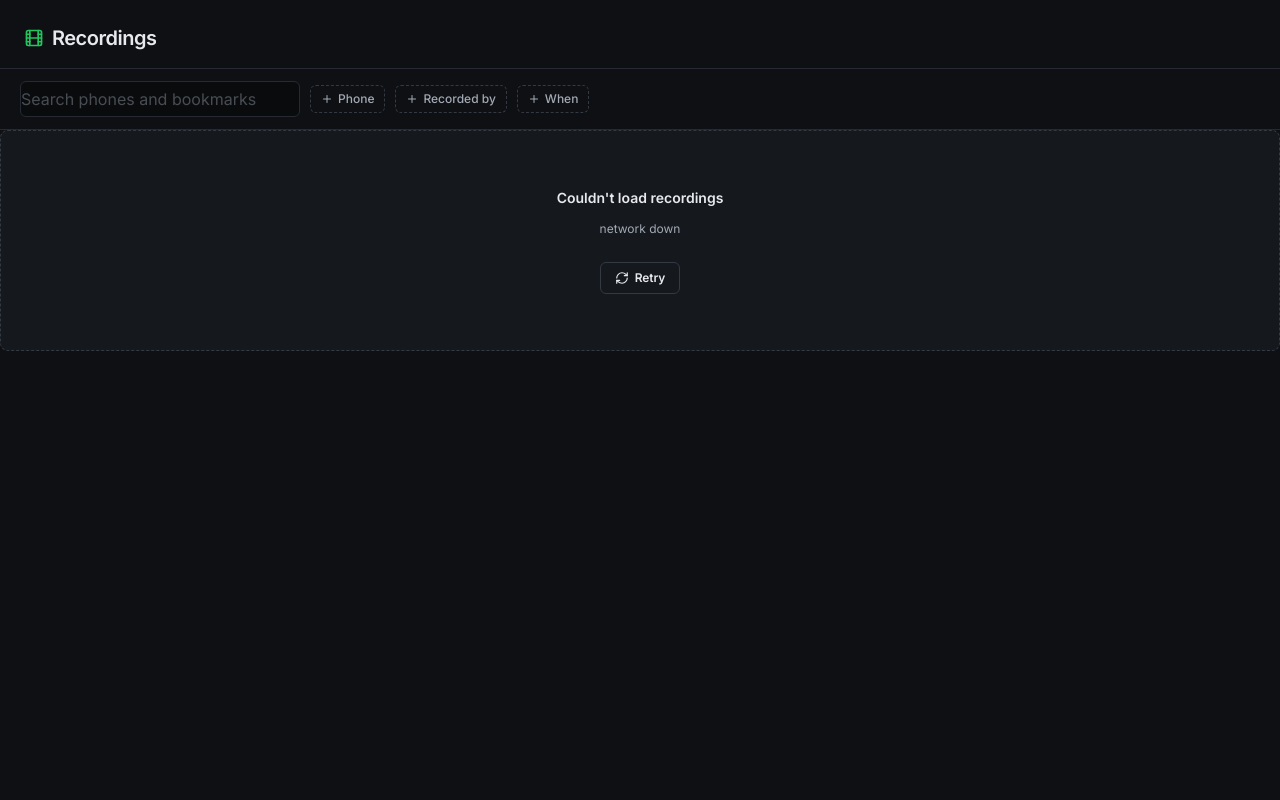
RecordingsPage › shows an error with Retry, which refetches
The image size is (1280, 800).
Expected: the text "Couldn't load recordings" is shown, [557,187,723,208]
Click the button "Retry".
click(640, 278)  # box [600,262,680,294]
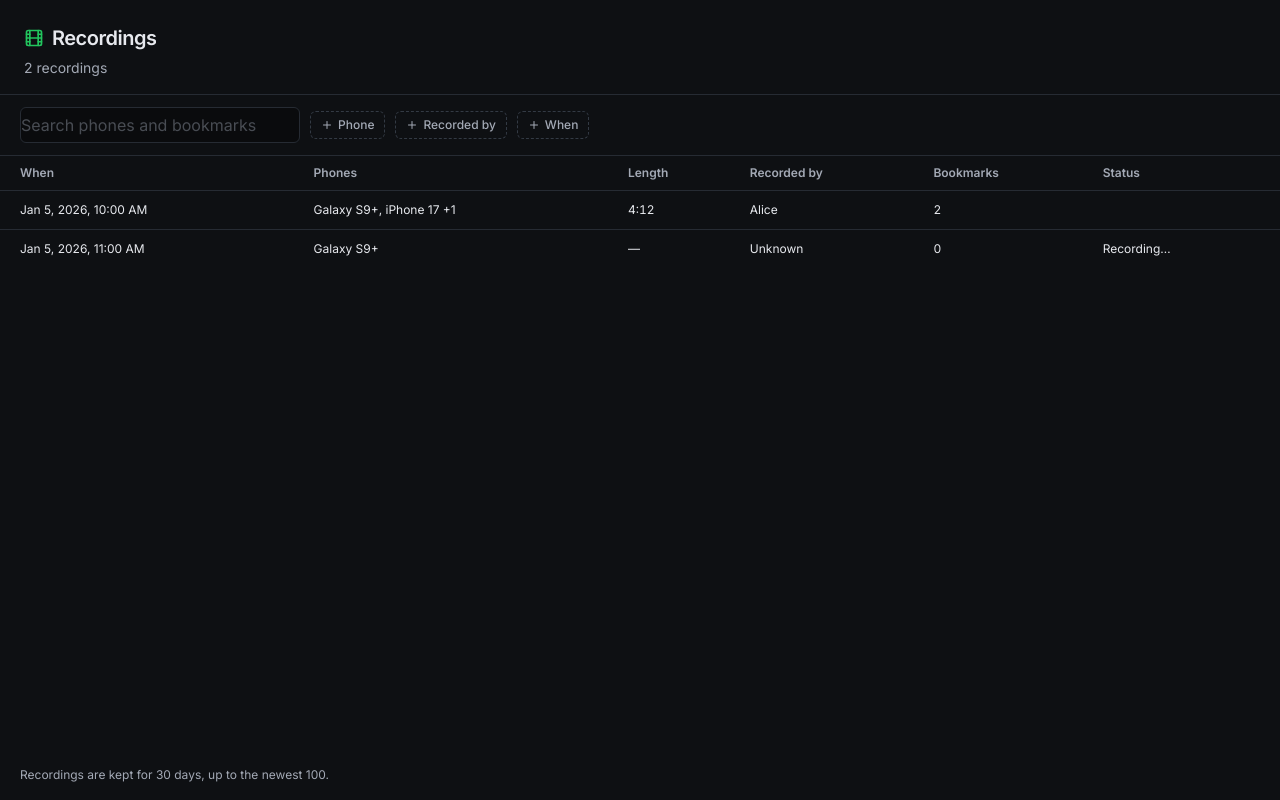
Expected: the text "2 recordings" is shown, [24,59,107,76]
